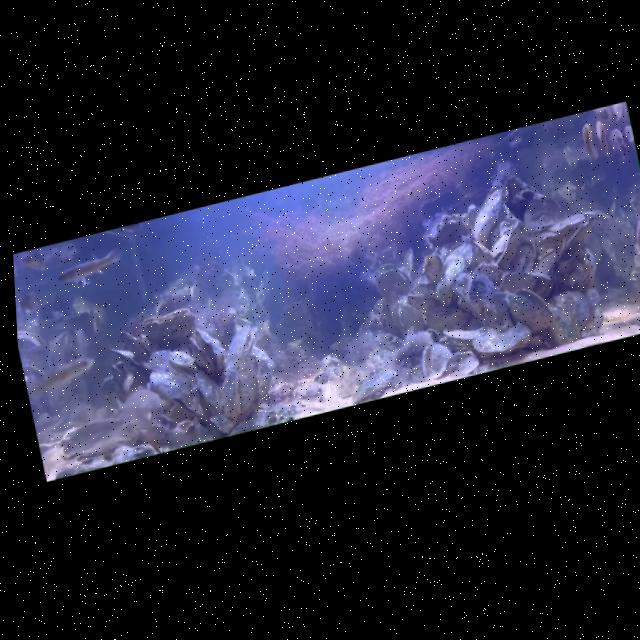Oyster-Closed: (145, 339, 209, 432), (448, 260, 515, 341), (427, 240, 482, 309), (465, 182, 518, 248), (469, 319, 535, 362), (547, 285, 596, 336), (486, 217, 530, 272), (235, 350, 269, 417), (74, 430, 137, 465), (213, 362, 248, 421), (442, 316, 499, 351), (194, 365, 228, 423), (543, 297, 582, 347), (421, 304, 473, 337), (460, 227, 496, 270), (110, 342, 144, 377)
Oyster-Indeterminate: (94, 371, 139, 429), (532, 209, 599, 246), (555, 215, 603, 264), (424, 210, 474, 252), (249, 343, 282, 405), (22, 359, 55, 410), (503, 232, 542, 275), (119, 324, 157, 368), (152, 286, 194, 319), (472, 256, 508, 294), (498, 264, 538, 298), (148, 412, 178, 455), (443, 347, 482, 380), (527, 246, 563, 280), (418, 250, 447, 287), (405, 288, 440, 316)
Oyster-Open: (501, 277, 557, 339), (140, 304, 200, 350), (188, 322, 229, 378), (370, 256, 416, 305), (417, 340, 458, 382), (223, 321, 264, 362), (17, 322, 48, 358), (310, 367, 335, 387)
